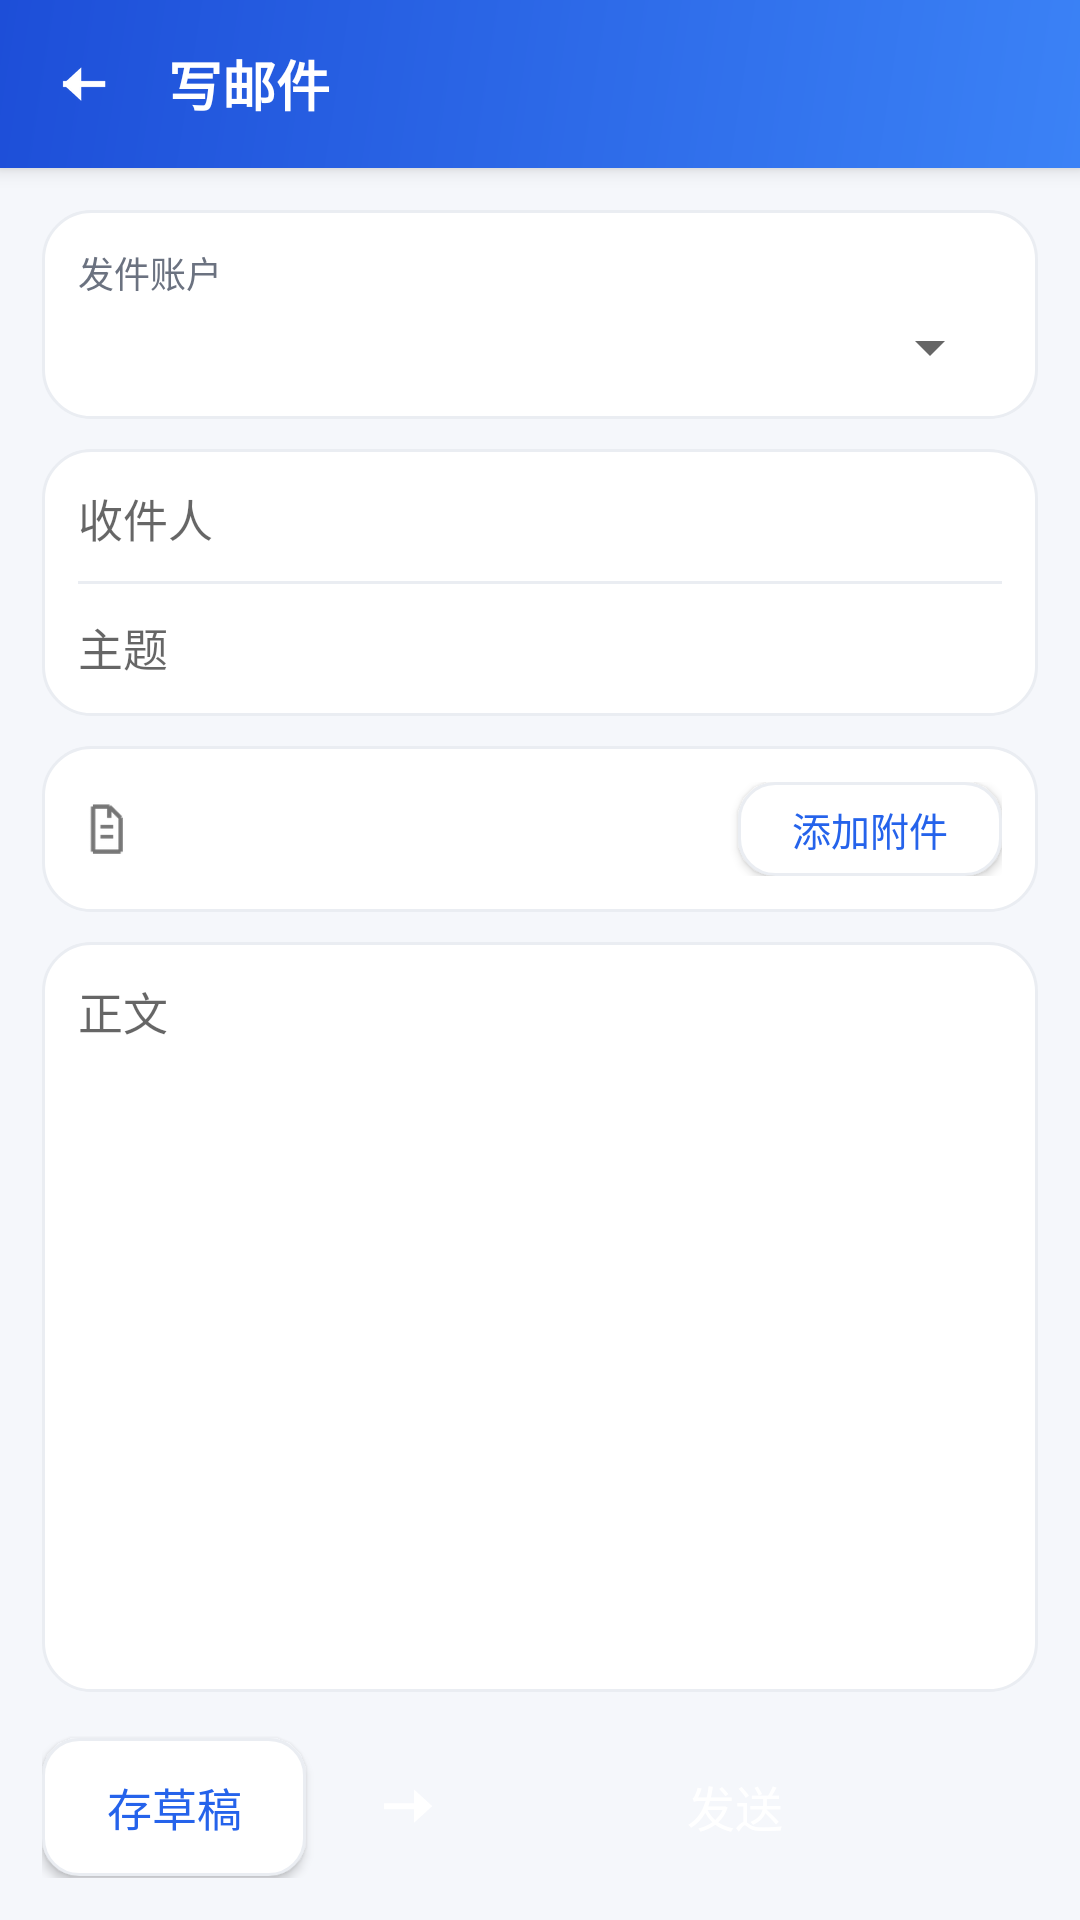

Locate icon controls on the screen. Image size 1080x1920, boxes as BBox(x1, y1, x2, y2).
返回: BBox(63, 67, 106, 101)
